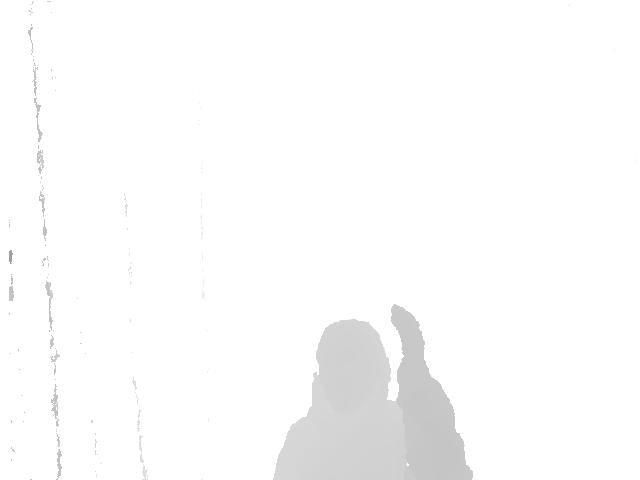hand: (385, 300, 428, 394)
head: (310, 321, 393, 421)
person: (274, 304, 474, 480)
